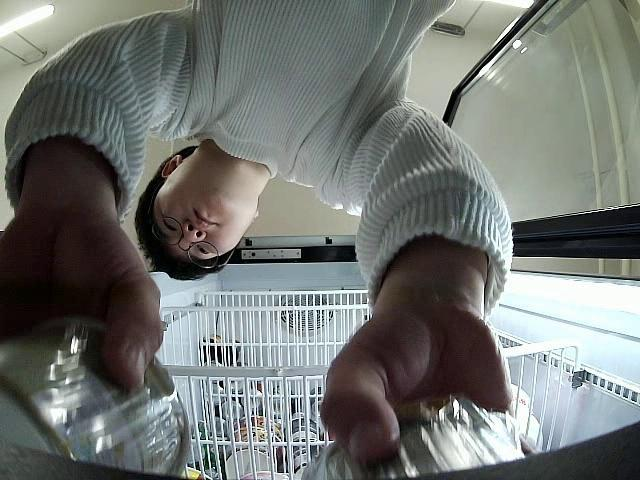04_chapagetti_S: (0, 320, 195, 480), (303, 399, 522, 480)
